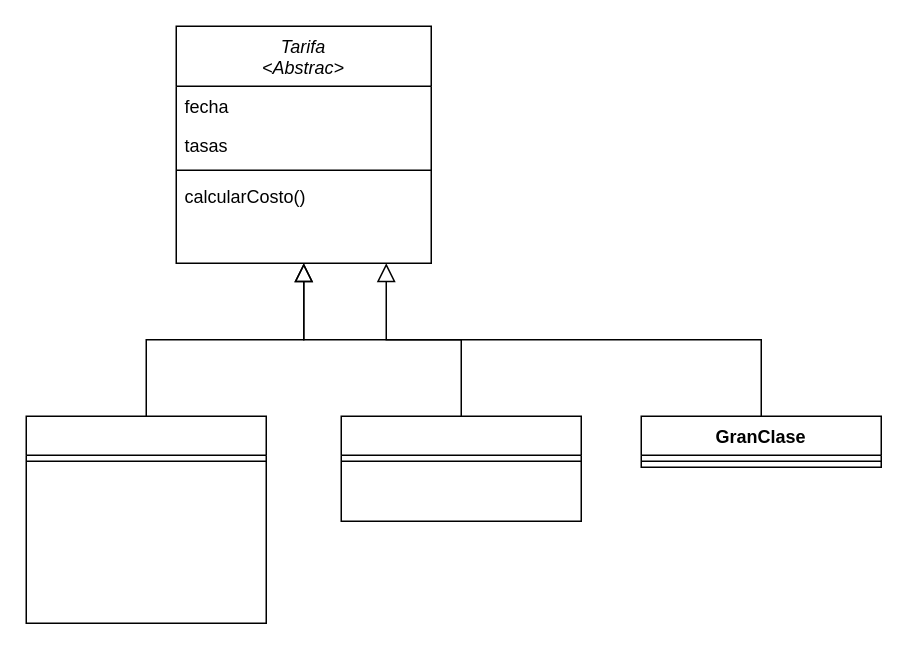
Some shapes in this 908 by 650 pixel diagram are drawn without their labels. The shapes that lost their labels are listed below. From the top down, each one's centre as x and y in pixels, then its label:
At point 460,468: "Preferente".
At point 145,519: "Turista".
